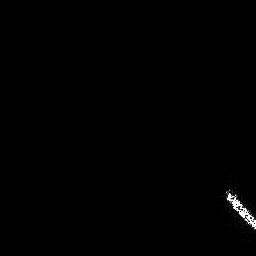ship: (224, 185, 256, 237)
